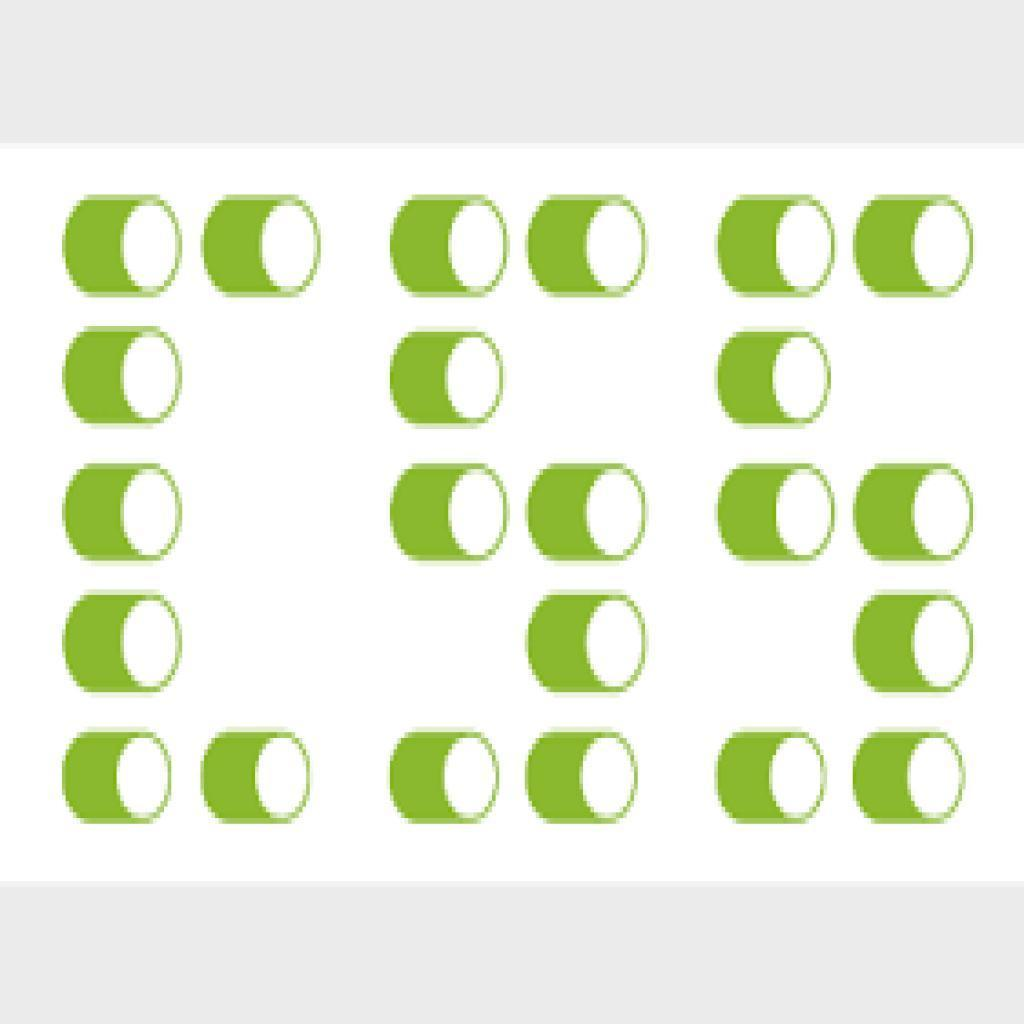switch: (518, 721, 654, 833), (850, 460, 979, 575), (59, 196, 191, 308), (380, 717, 503, 833), (201, 193, 328, 304), (850, 194, 980, 302), (528, 592, 647, 708), (198, 724, 318, 836), (850, 591, 975, 696), (391, 454, 506, 566), (61, 464, 188, 561), (390, 198, 509, 299), (528, 461, 648, 560), (530, 200, 652, 296), (63, 329, 185, 425), (716, 198, 833, 297), (65, 593, 183, 691), (391, 333, 508, 430), (718, 330, 831, 430), (718, 468, 839, 561), (61, 732, 176, 825), (717, 733, 828, 828), (856, 730, 967, 825)
